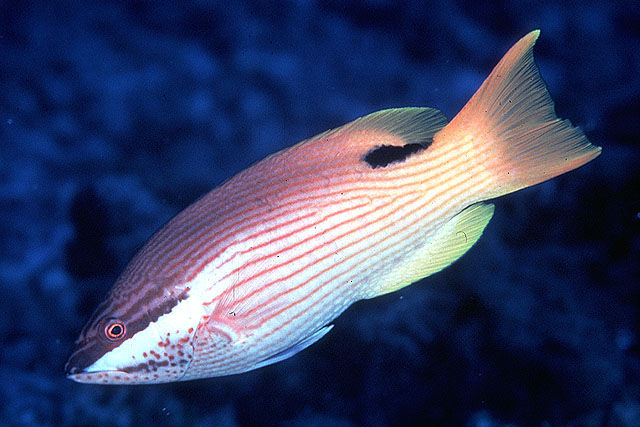fish: (63, 29, 605, 386)
